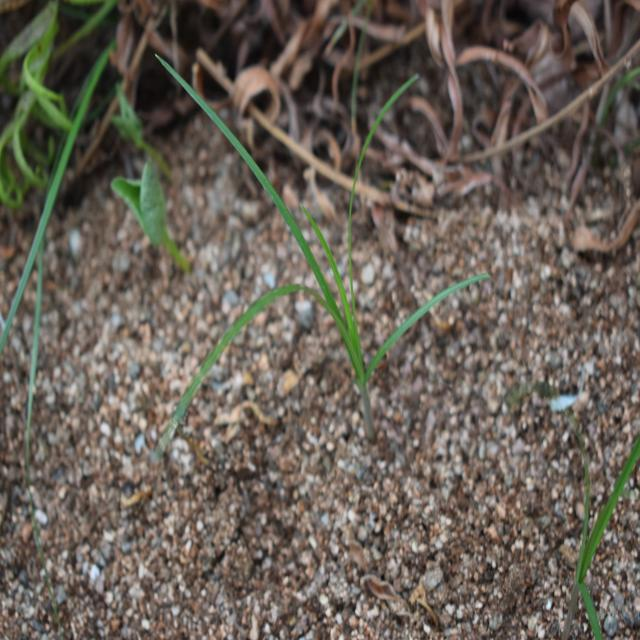sedge: (154, 92, 431, 398)
